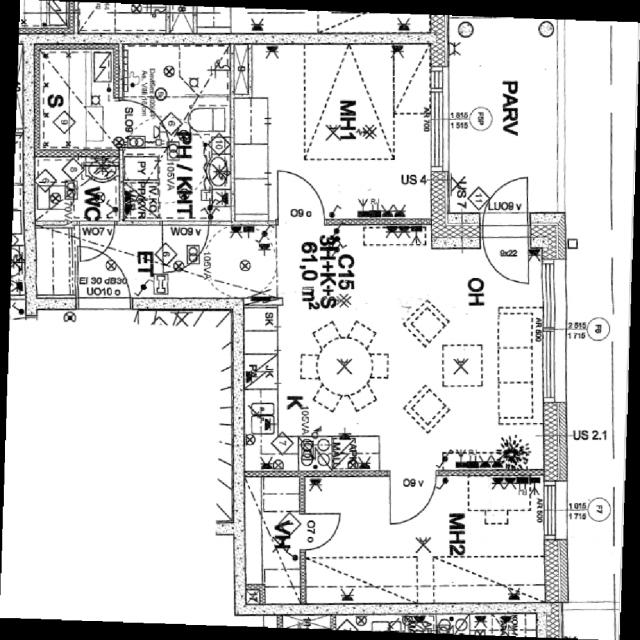door: (78, 244, 130, 310), (482, 177, 527, 237), (482, 224, 527, 284), (278, 169, 326, 225), (390, 469, 436, 523), (113, 100, 167, 146), (162, 220, 208, 272), (300, 513, 343, 551), (80, 220, 114, 260)
